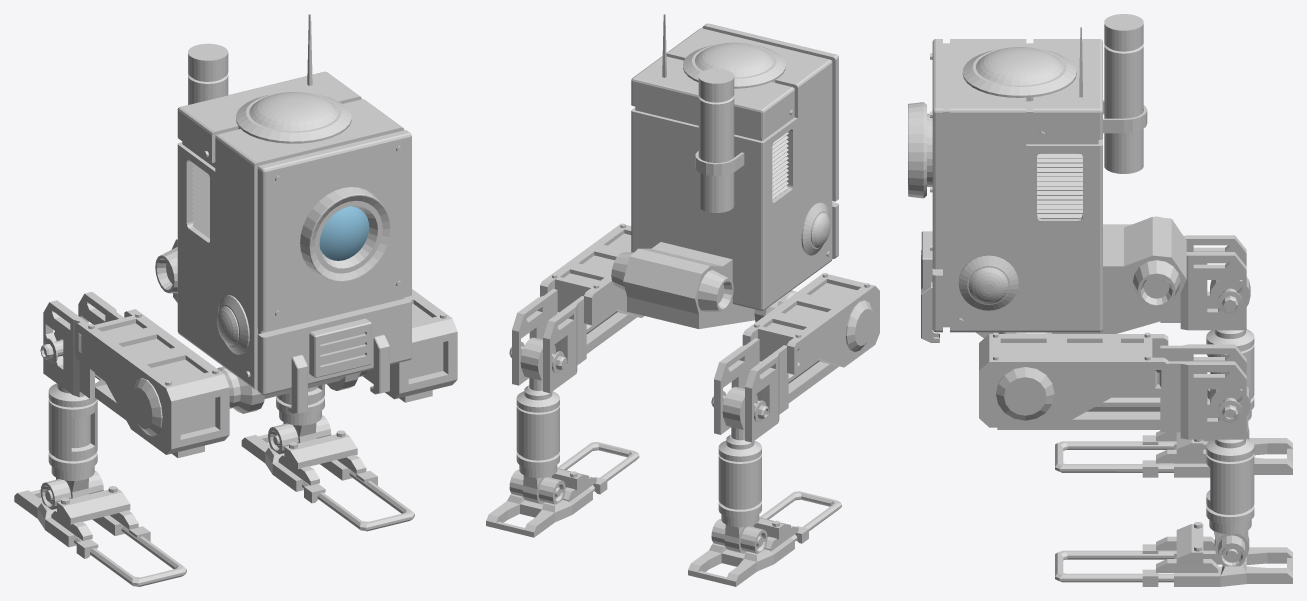
File: OrbitRush_RobotApoyo.fbx
3 views of the same model, side by side, from view 1: azimuth 30°, elevation 25°; view 2: azimuth 150°, elevation 25°; view 3: azimuth 270°, elevation 25° (orthographic). The views are drawn at different scales.
Visible parts, largest first — view 1: Robot_Body, Robot_LegL, Robot_LegR; view 2: Robot_Body, Robot_LegL, Robot_LegR; view 3: Robot_Body, Robot_LegR, Robot_LegL.
Part boxes in pixels (x1,y1,x2,y2): Robot_Body: (75,14,457,454); Robot_LegL: (14,292,204,586); Robot_LegR: (241,384,432,531); Robot_Body: (540,14,879,400); Robot_LegL: (688,338,841,586); Robot_LegR: (486,289,639,537); Robot_Body: (908,14,1186,427); Robot_LegR: (997,344,1292,586); Robot_LegL: (1055,235,1292,477).
Size of the model in its own units: 54.85 by 91.23 by 62.18.
